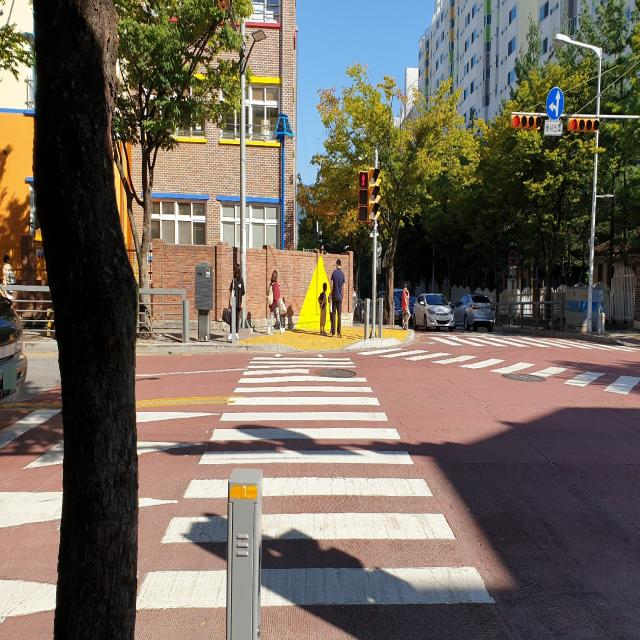빨간불: (358, 170, 369, 223)
횡단보도: (141, 355, 501, 640), (358, 332, 640, 395)
